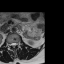CCS_normal: (13, 41, 14, 49)
LFS_normal: (16, 40, 18, 47)
LLS_normal: (14, 41, 16, 47)
RFS_normal: (9, 41, 11, 47)
RLS_normal: (11, 41, 13, 48)
